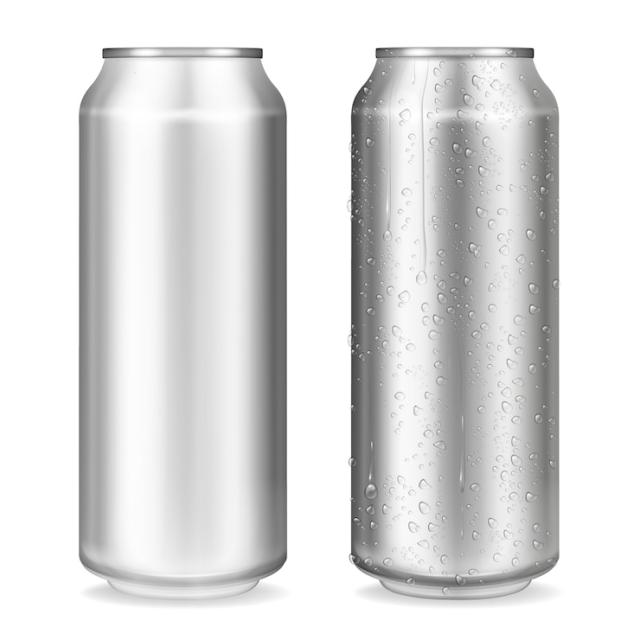soda_can: (337, 34, 576, 617), (65, 38, 295, 607)
